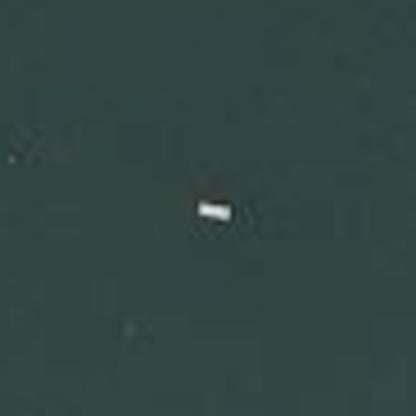ship: (187, 189, 240, 231)
